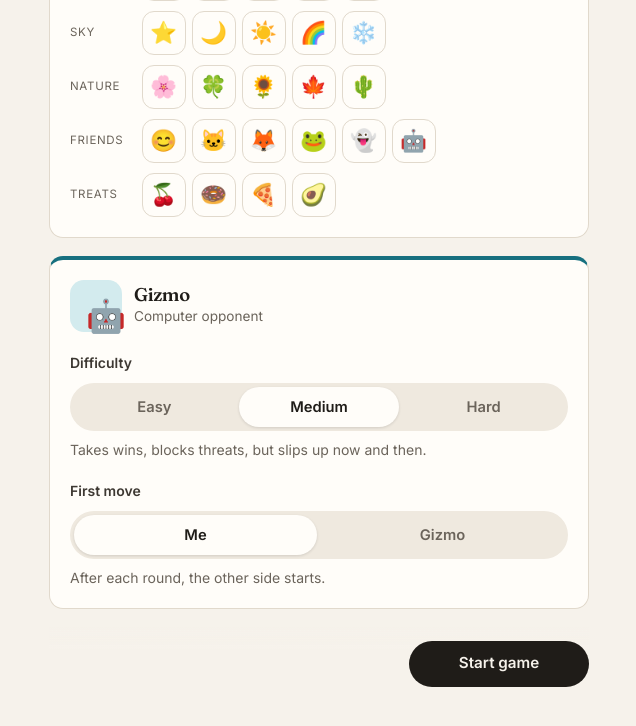
Test: Player vs Computer › lets the computer reply automatically and blocks input while it thinks
Later steps or results of the test are not shown.
(page scrolled)
Click the text "Hard".
click(484, 407)  # box [467,398,501,416]
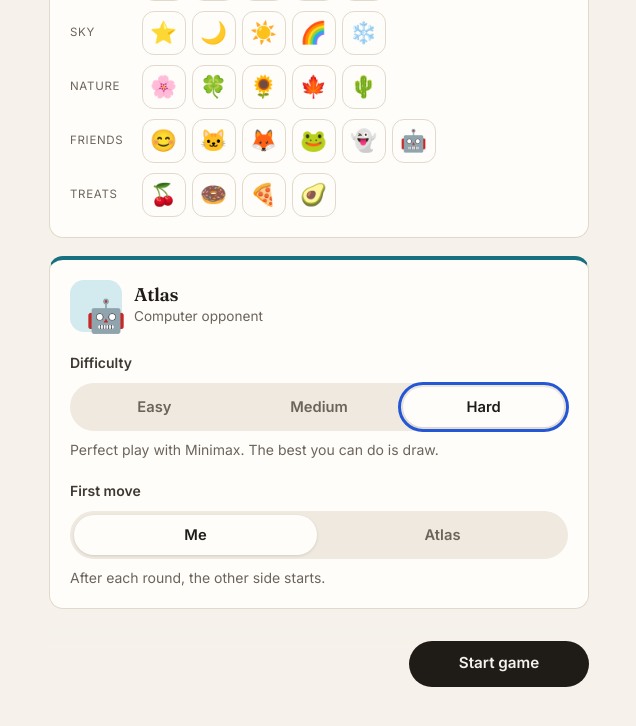
Expected: the text "Perfect play with Minimax. The best you can do is draw." is shown, [70,441,439,458]
Click the button "Start game".
click(499, 664)  # box [409,641,589,687]
(page scrolled)
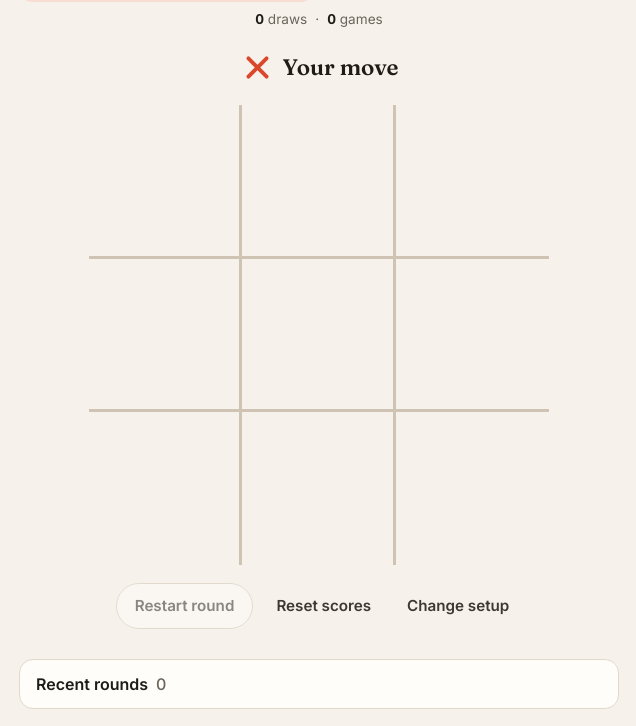
Expected: the message reads "Your move", [282,52,398,80]
Click the button named "Row 1, column 1: empty".
click(166, 182)  # box [89,105,242,259]
Wait 1000 ms
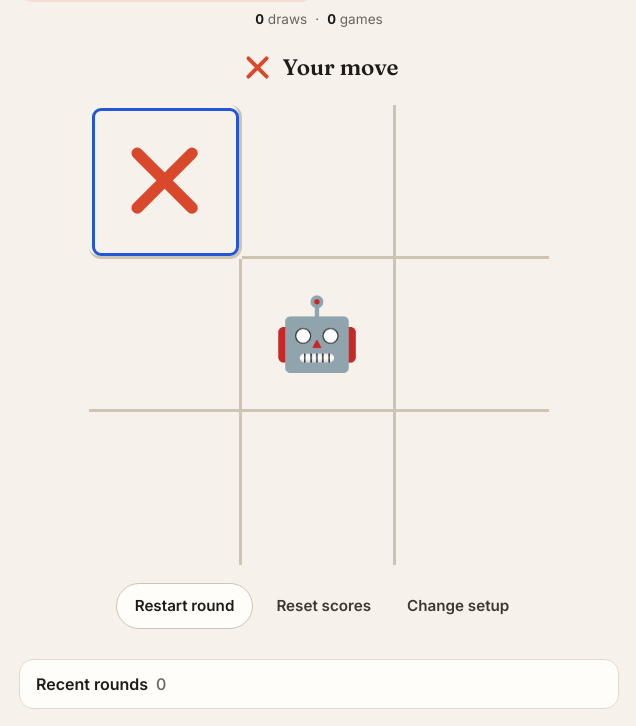
Expected: the message reads "Your move", [282,52,398,80]
